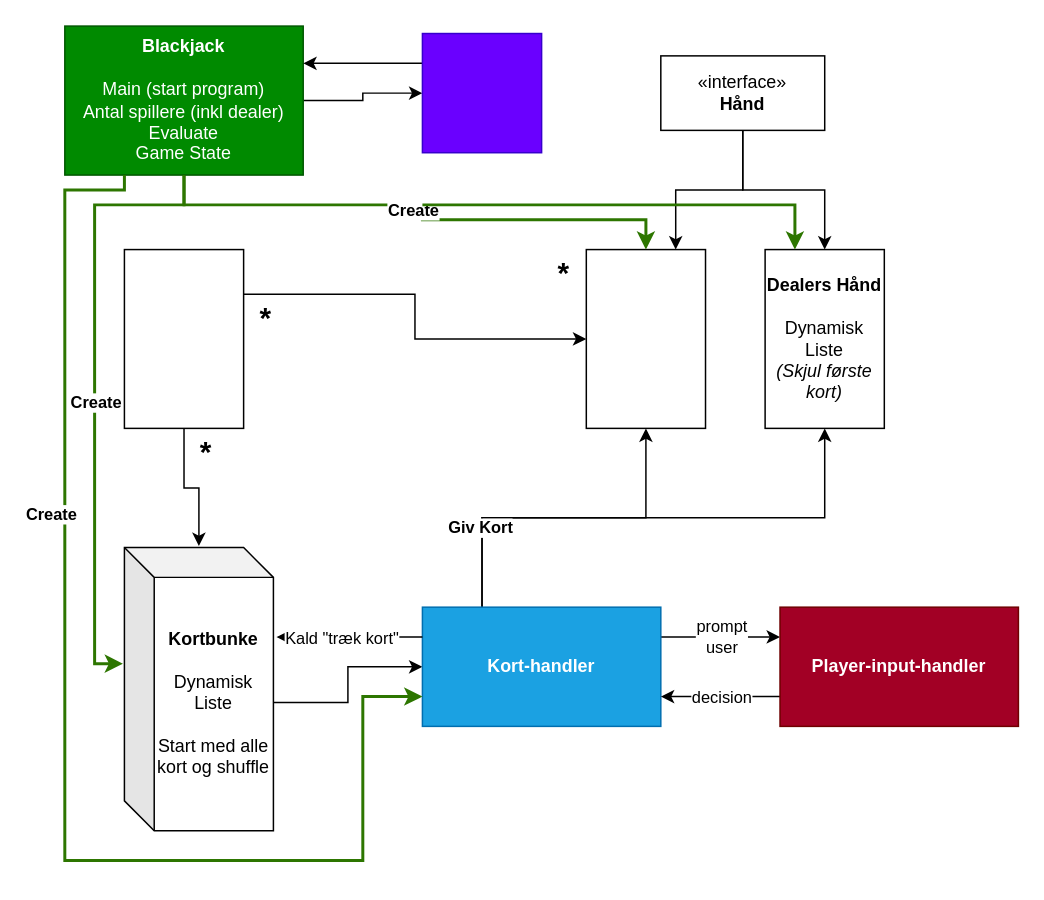
Some shapes in this 1044 by 900 pixel diagram are drawn without their labels. The shapes that lost their labels are listed below. From the top down, each one's centre as x and y in pixels, then its label:
At point 481,92: "Evaluator".
At point 183,338: "Kort Heltal 0-51".
At point 645,338: "Spillers Hånd Dynamisk Liste".
